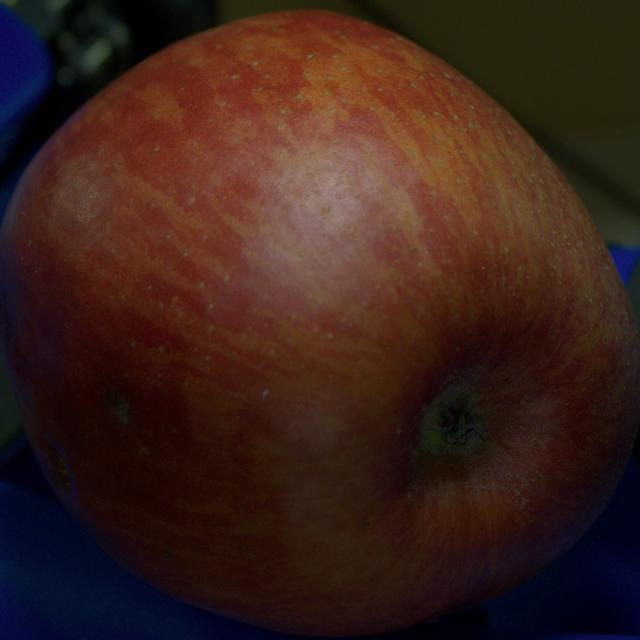apple: (0, 12, 639, 635)
pest: (105, 392, 129, 423), (57, 456, 69, 486)
